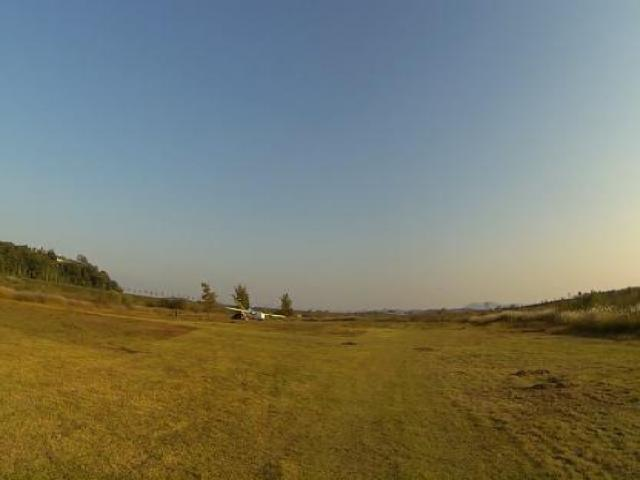uav: (218, 295, 292, 328)
